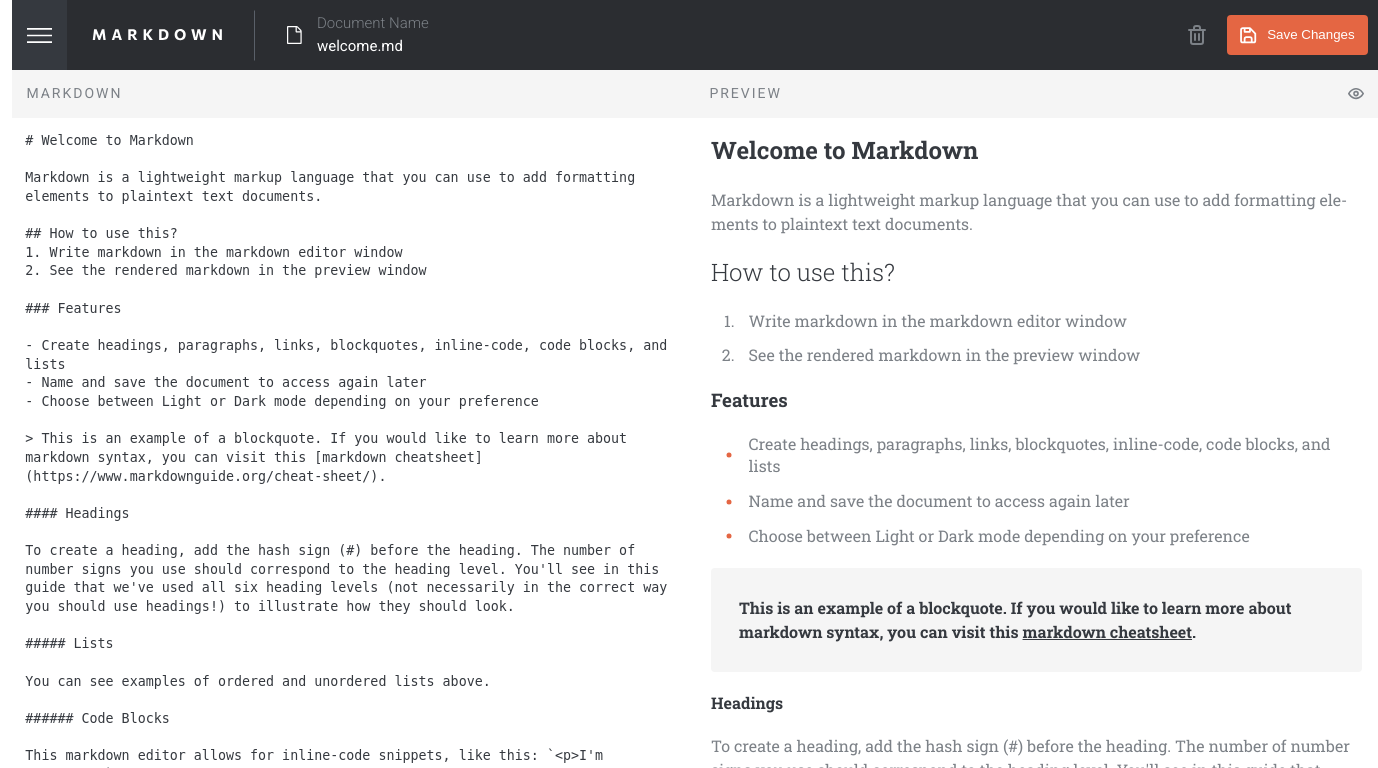
testing markdown syntax › paragraphs rendered
Step 1. Focus the text box with test id "markdownTextArea" → [354, 443], box [12, 118, 695, 767]
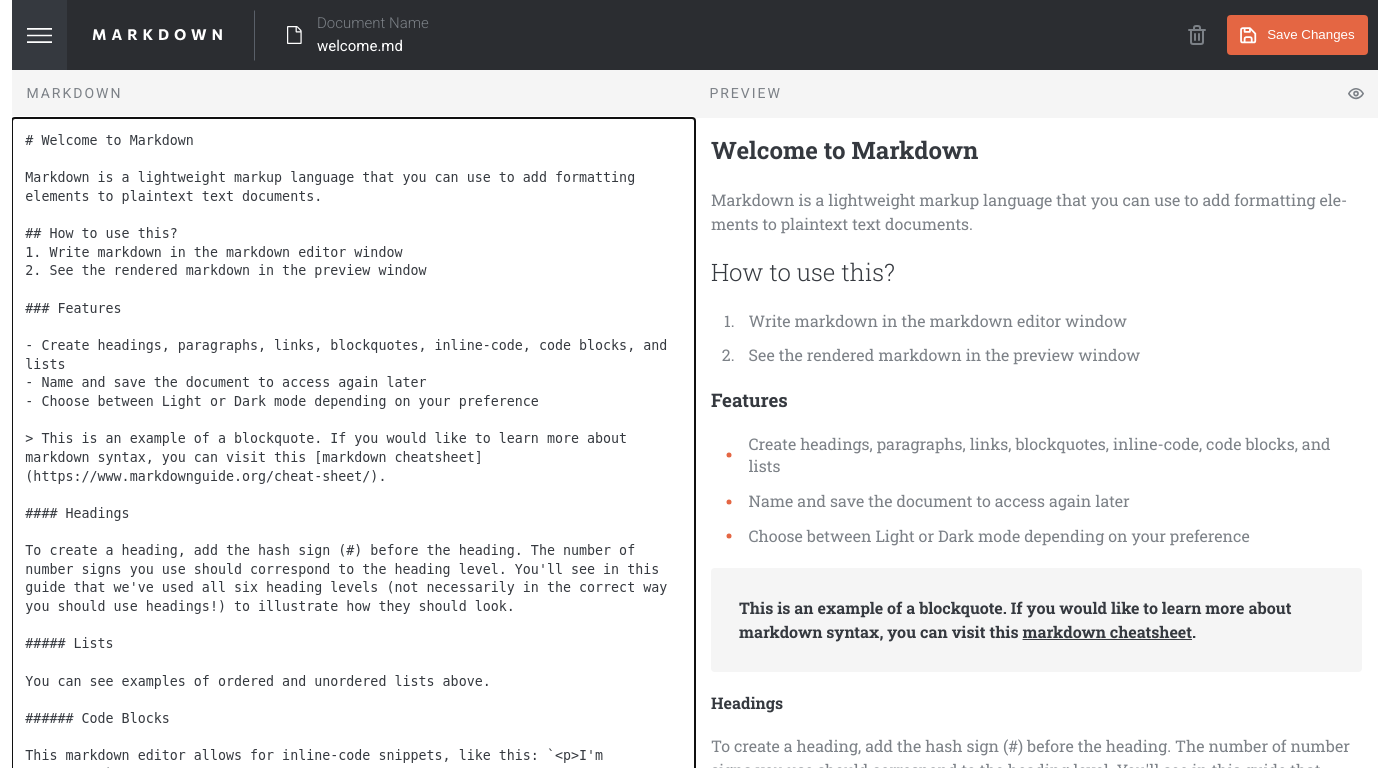
Step 2. Press Selectall Backspace in the text box with test id "markdownTextArea", box [12, 118, 695, 767]
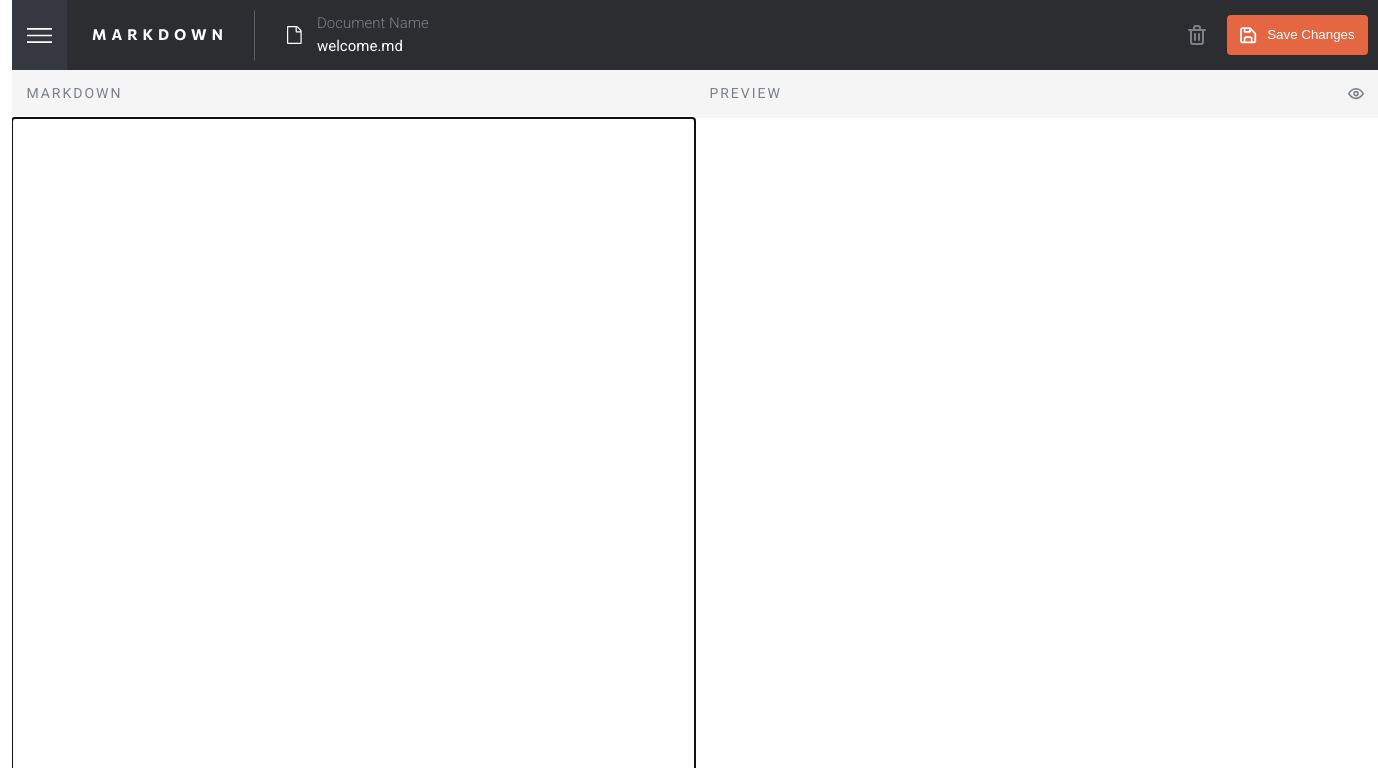
Step 3. Type "I really like using markdown." into the text box with test id "markdownTextArea" → [354, 443], box [12, 118, 695, 767]
Then press Enter, Enter
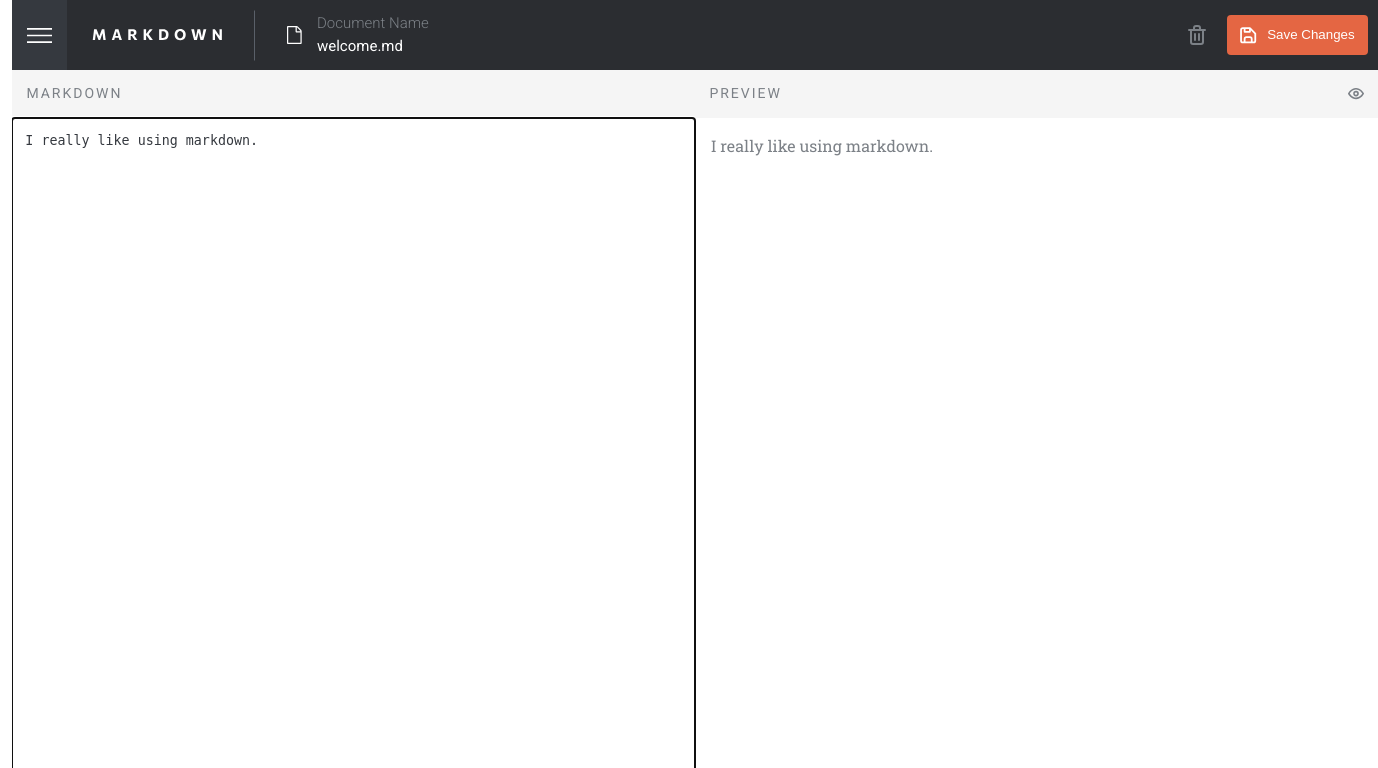
Step 4. Type "I love using it with my GitHub Repos!" into the text box with test id "markdownTextArea" → [354, 443], box [12, 118, 695, 767]
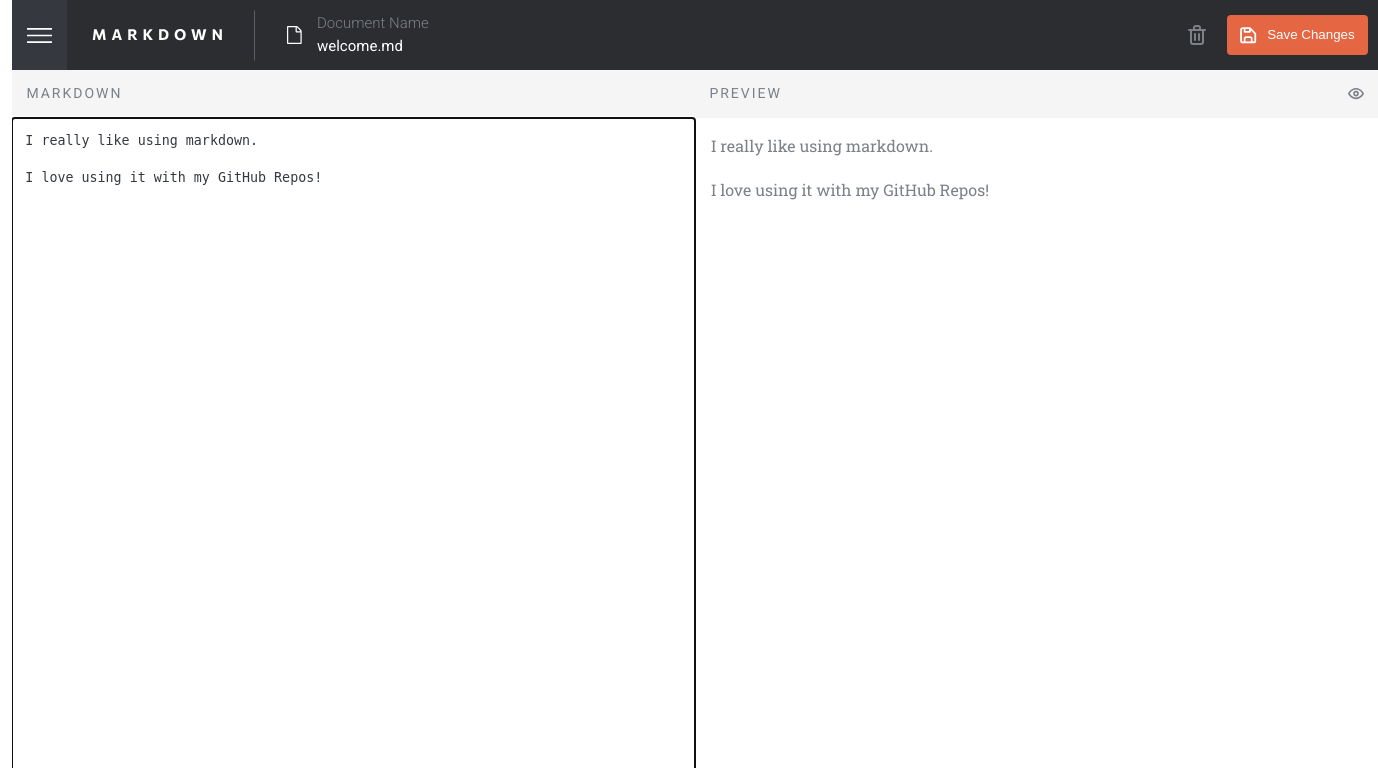
Check: the text "I really like using markdown." is shown, box [711, 135, 933, 156]
Check: the text "I love using it with my GitHub Repos!" is shown, box [711, 179, 989, 200]
